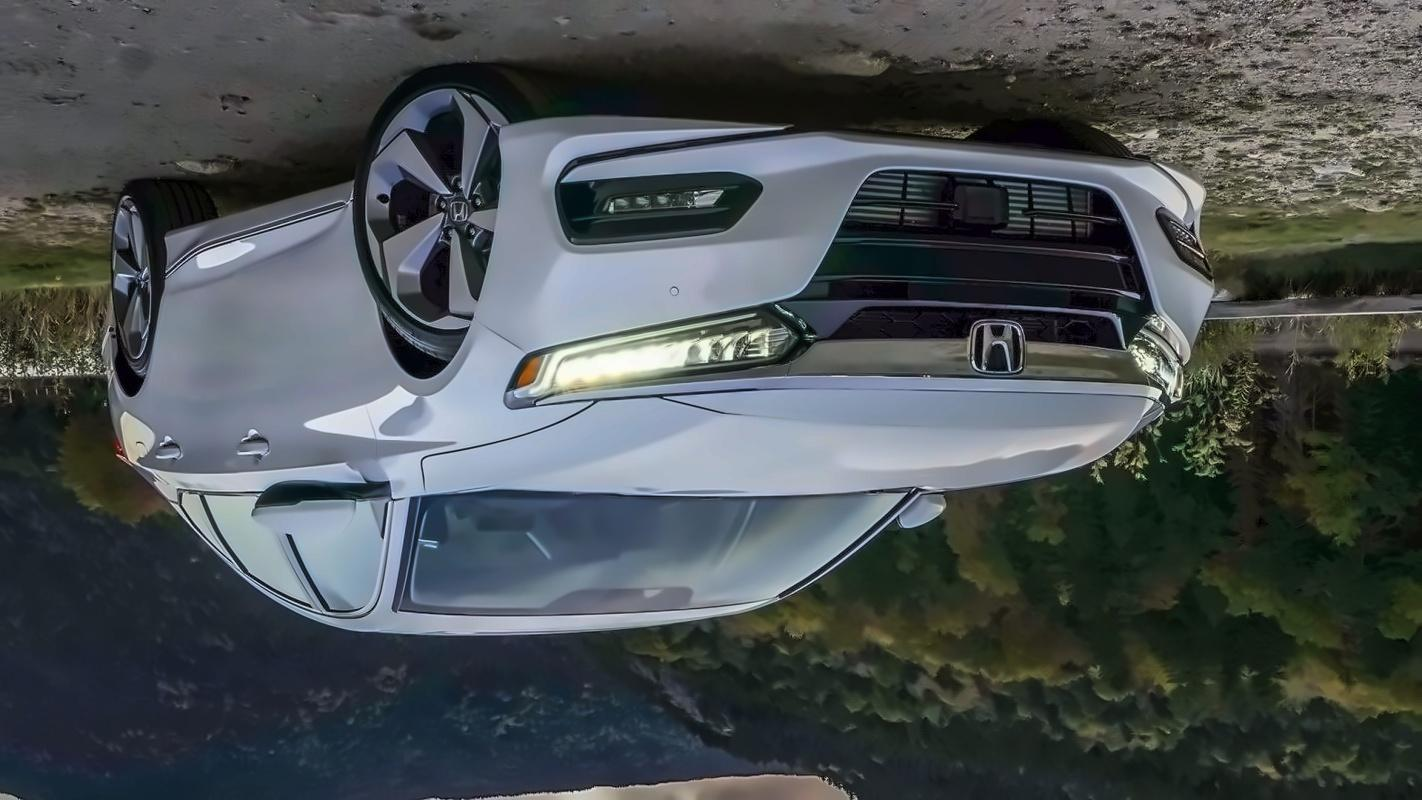Car hood: (418, 373, 1157, 509)
Fender - -F-L-: (350, 172, 573, 503)
Fender - -R-L-: (120, 222, 179, 490)
Front bumper: (477, 99, 1223, 352)
Headlight - -L-: (500, 290, 824, 420)
Headlight - -R-: (1109, 304, 1196, 415)
Passenger-s door - -F-L-: (225, 205, 411, 632)
Passenger-s door - -R-L-: (124, 237, 297, 611)
Rear bumper: (70, 299, 130, 394)
Rear light - -L-: (100, 407, 152, 479)
Side bumper - -L-: (142, 174, 370, 278)
Side mirror - -L-: (249, 459, 370, 549)
Side mirror - -R-: (887, 480, 958, 538)
